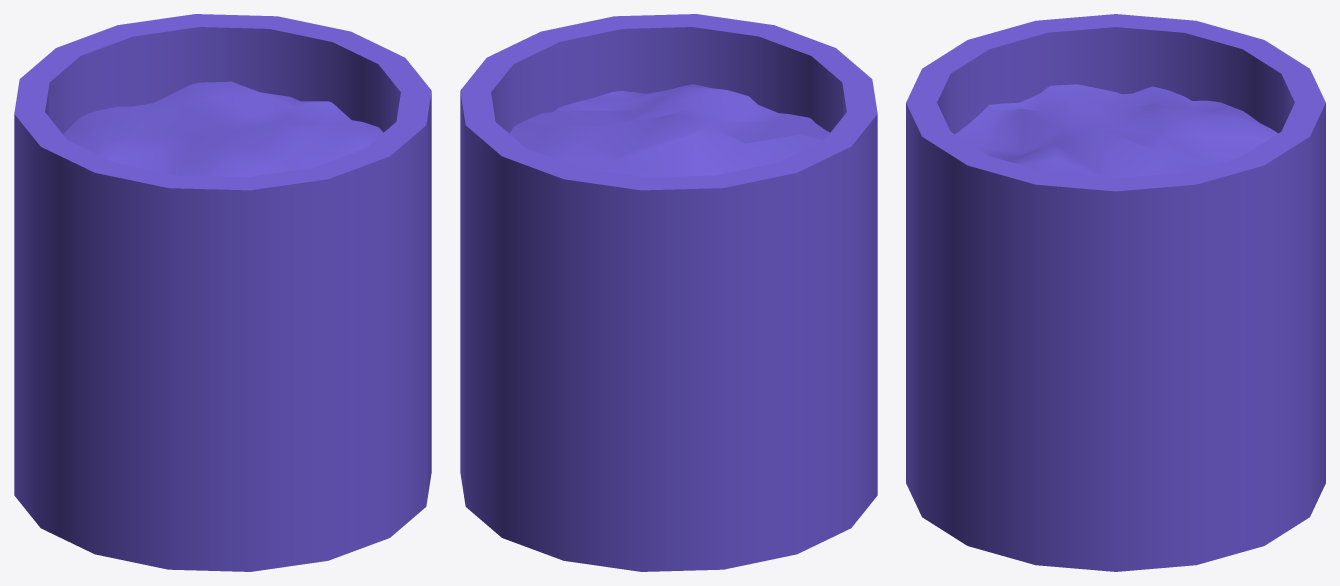
Rendered from Food_BarleyContainer.fbx.
3 renders of one model, left to right at view 1: azimuth 30°, elevation 25°; view 2: azimuth 150°, elevation 25°; view 3: azimuth 270°, elevation 25°, orthographic.
Visible parts, largest first — view 1: BraleyCBod; view 2: BraleyCBod; view 3: BraleyCBod.
Boxes of the visible parts, x1,y1,x2,y2 form: BraleyCBod: (14, 14, 431, 571); BraleyCBod: (460, 14, 877, 571); BraleyCBod: (906, 14, 1325, 571).
Bounding box in the file's own units: 9.32 × 9.32 × 9.32.
